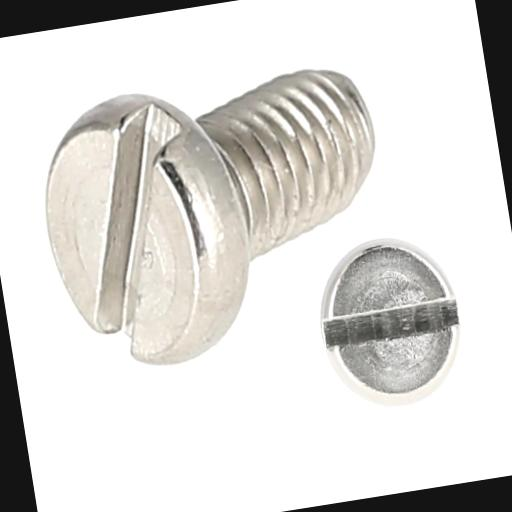Slotted: (25, 74, 266, 382)
